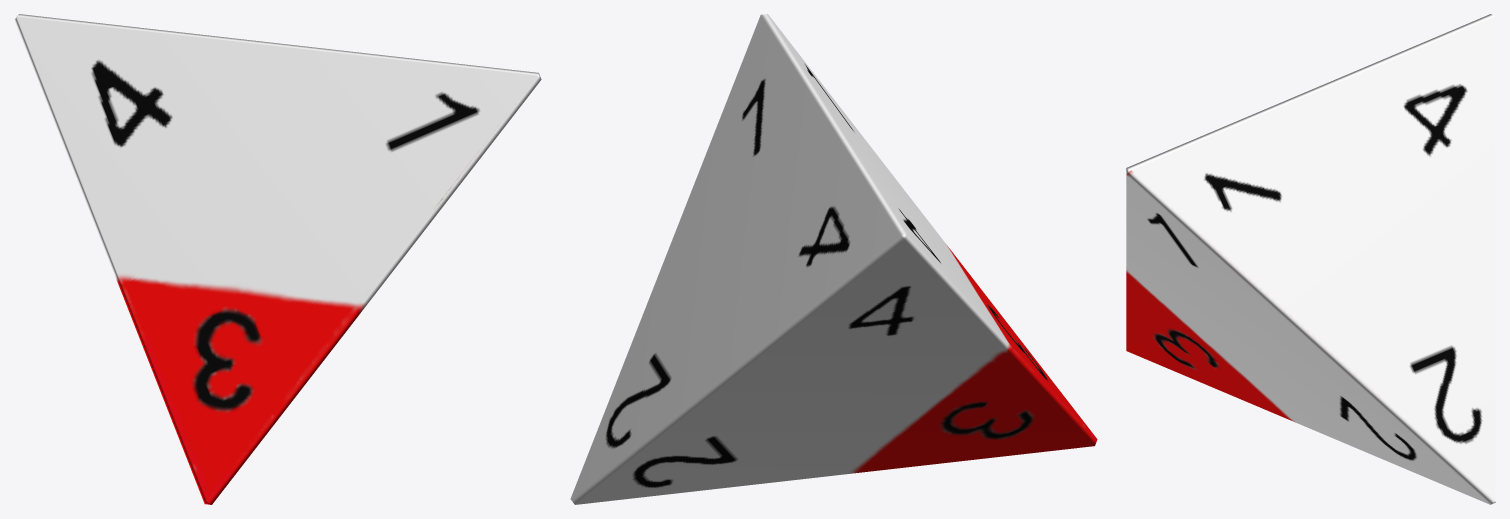
The model's file is d4-numbers.glb.
The picture shows the model from 3 angles, left to right: view 1: azimuth 30°, elevation 25°; view 2: azimuth 150°, elevation 25°; view 3: azimuth 270°, elevation 25°; orthographic projection. The views are drawn at different scales.
Parts seen in each view (by area): view 1: Mesh_0; view 2: Mesh_0; view 3: Mesh_0.
Boxes of the visible parts, bbox=[...] form: Mesh_0: bbox=[14, 14, 541, 504]; Mesh_0: bbox=[570, 14, 1097, 504]; Mesh_0: bbox=[1126, 14, 1495, 504].
Bounding box in the file's own units: 135 × 135 × 135.
Materials: 1 (1 with a texture image).
